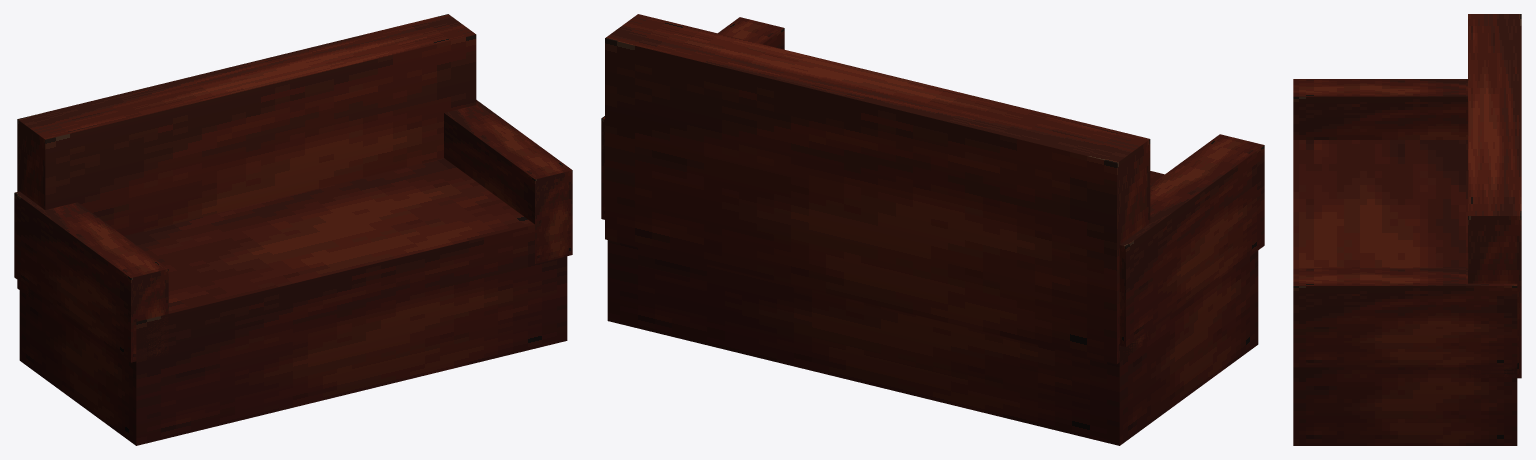
File: prop_sofa.glb
3 renders of one model, left to right at view 1: azimuth 30°, elevation 25°; view 2: azimuth 150°, elevation 25°; view 3: azimuth 270°, elevation 25°, orthographic. The views are drawn at different scales.
Visible parts, largest first — view 1: prop_sofa; view 2: prop_sofa; view 3: prop_sofa.
Part boxes in pixels (x1=…): prop_sofa: x1=14, y1=14, x2=572, y2=445; prop_sofa: x1=601, y1=14, x2=1264, y2=445; prop_sofa: x1=1293, y1=14, x2=1521, y2=445.
Bounding box in the file's own units: 1.64 × 0.85 × 0.765.
1 material, 1 textured.
